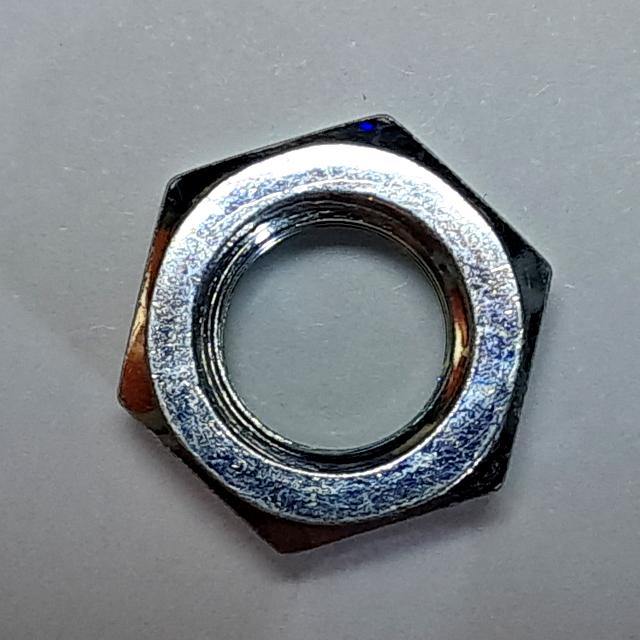Excellent: (96, 96, 573, 572)
